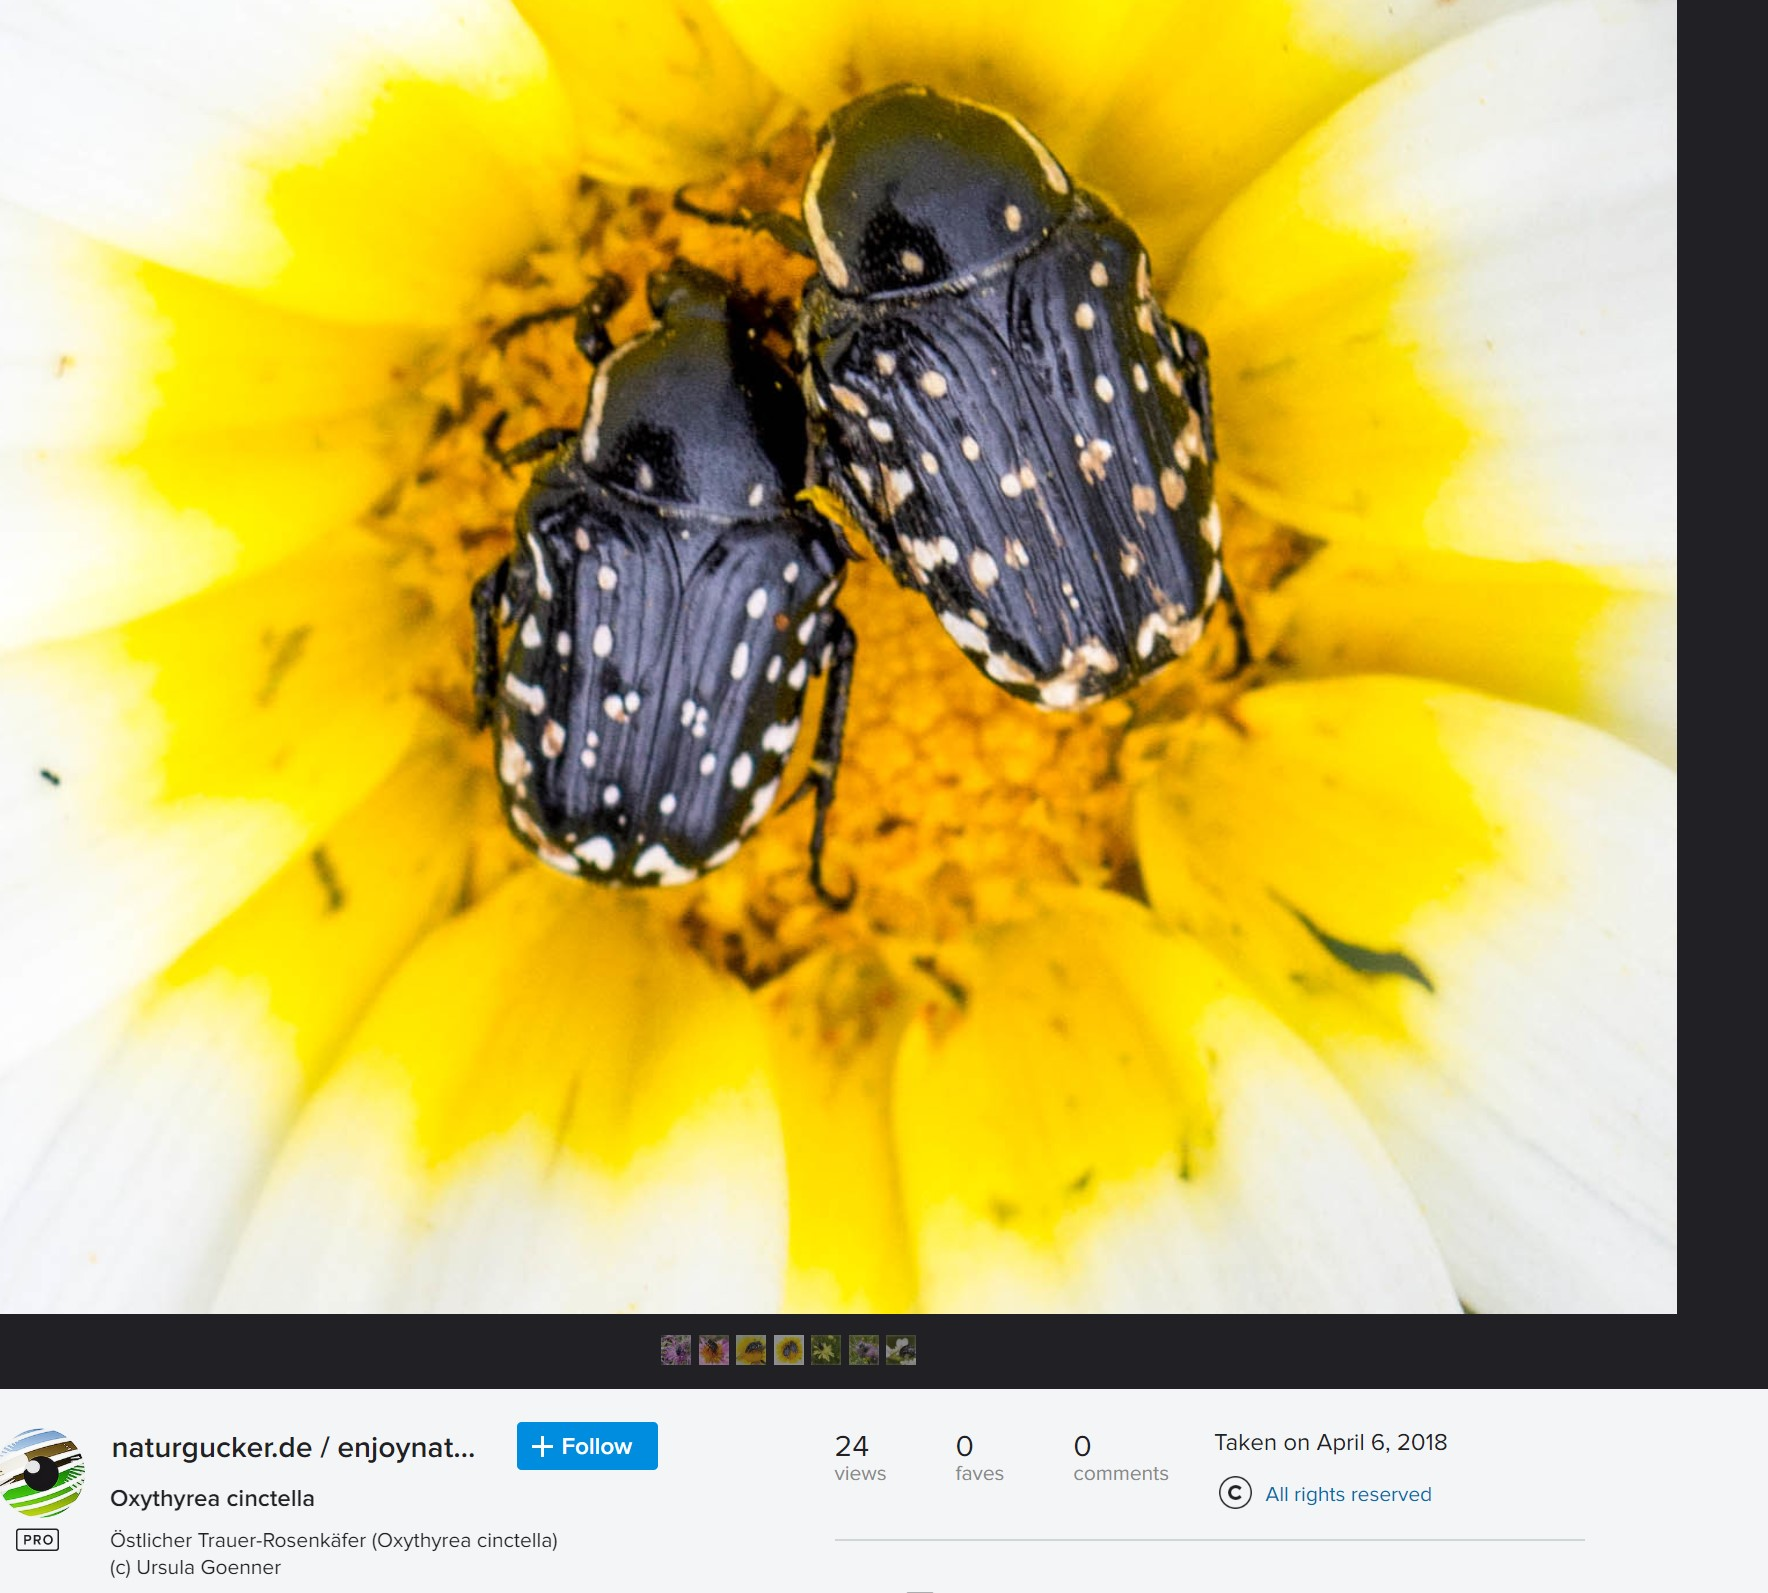Oxythyrea_cinctella: (769, 52, 1282, 735), (477, 261, 876, 923)
